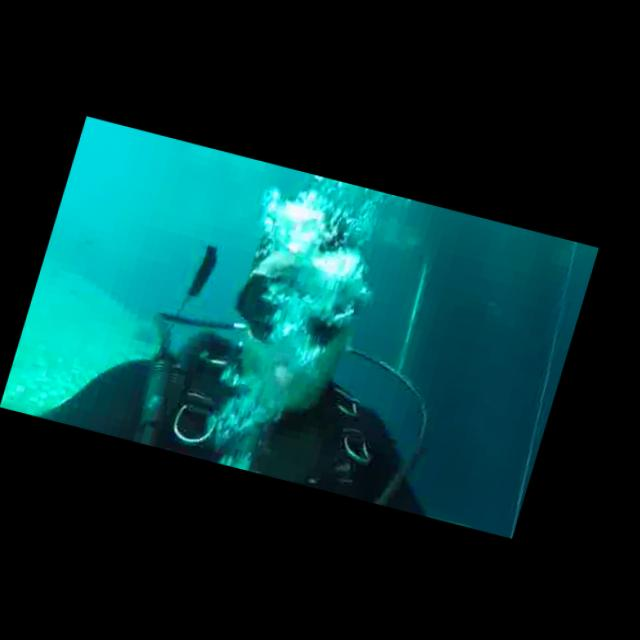human: (33, 169, 524, 519)
